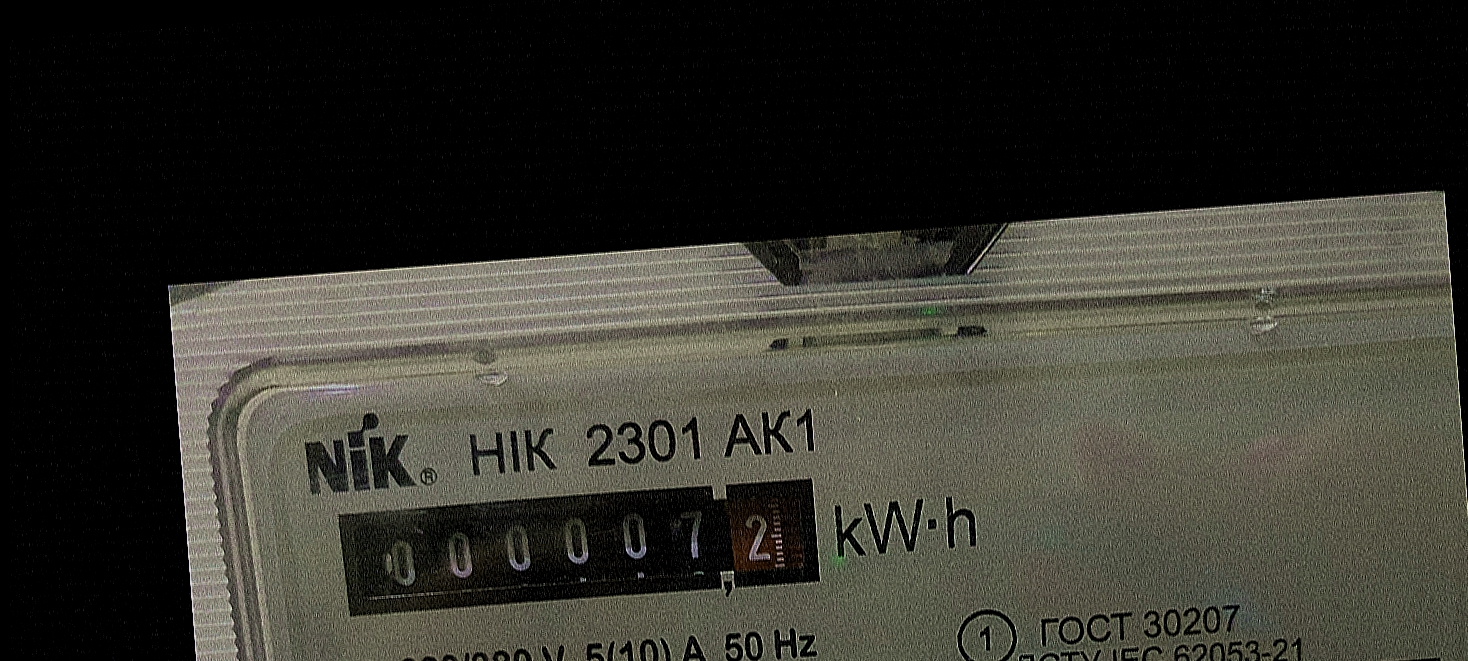0: (441, 526, 480, 581), (617, 508, 653, 563), (559, 512, 594, 568), (502, 519, 536, 574), (386, 535, 421, 588)
2: (741, 511, 775, 564)
7: (676, 506, 709, 562)
screen: (320, 458, 842, 637)
